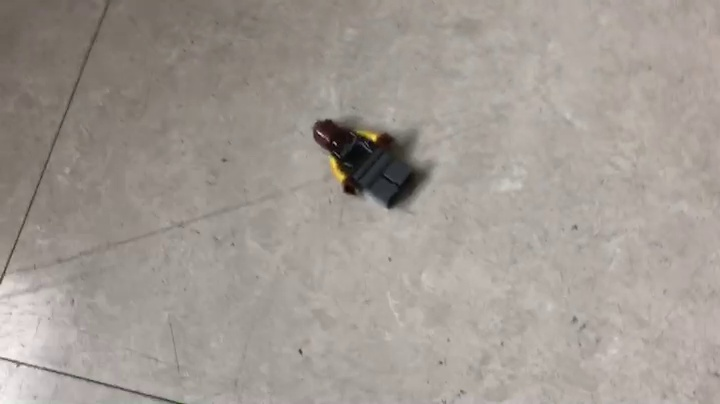people: (310, 117, 422, 211)
